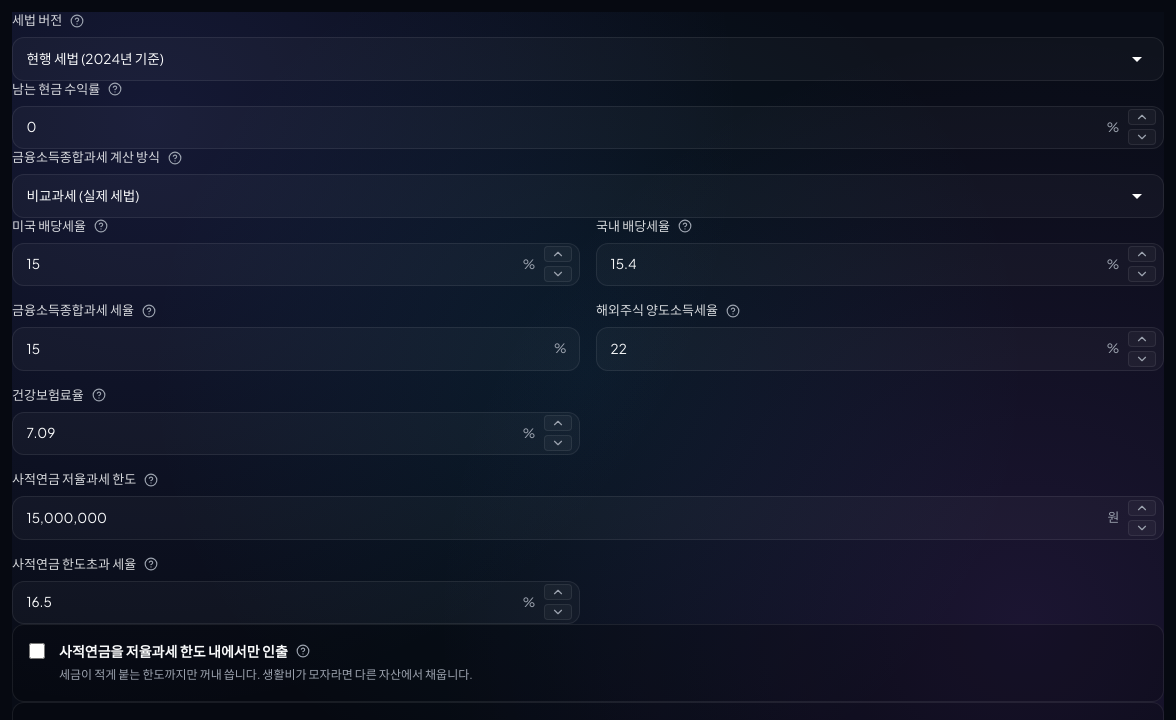
Scenario: AdvancedSection — 남는 현금 수익률 › 명목 기준일 때는 "이자 없이 그대로"라고 말한다
Expected: the element labelled "남는 현금 수익률" is shown, [12,80,1164,149]
Hover over the icon named "도움말" next to "남는 현금 수익률".
mouse_move(115, 89)  # box [108,82,122,96]
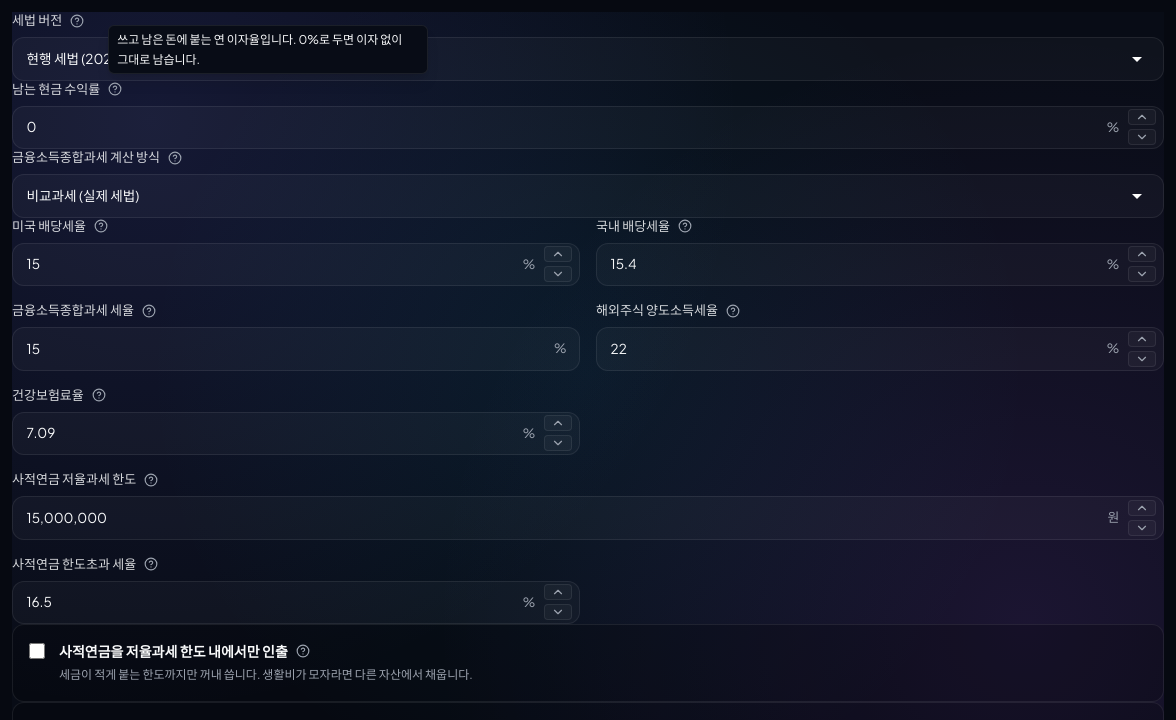
Now the tooltip "쓰고 남은 돈에 붙는 연 이자율입니다. 0%로 두면 이자 없이 그대로 남습니다." is shown, box [108,25,428,74]
